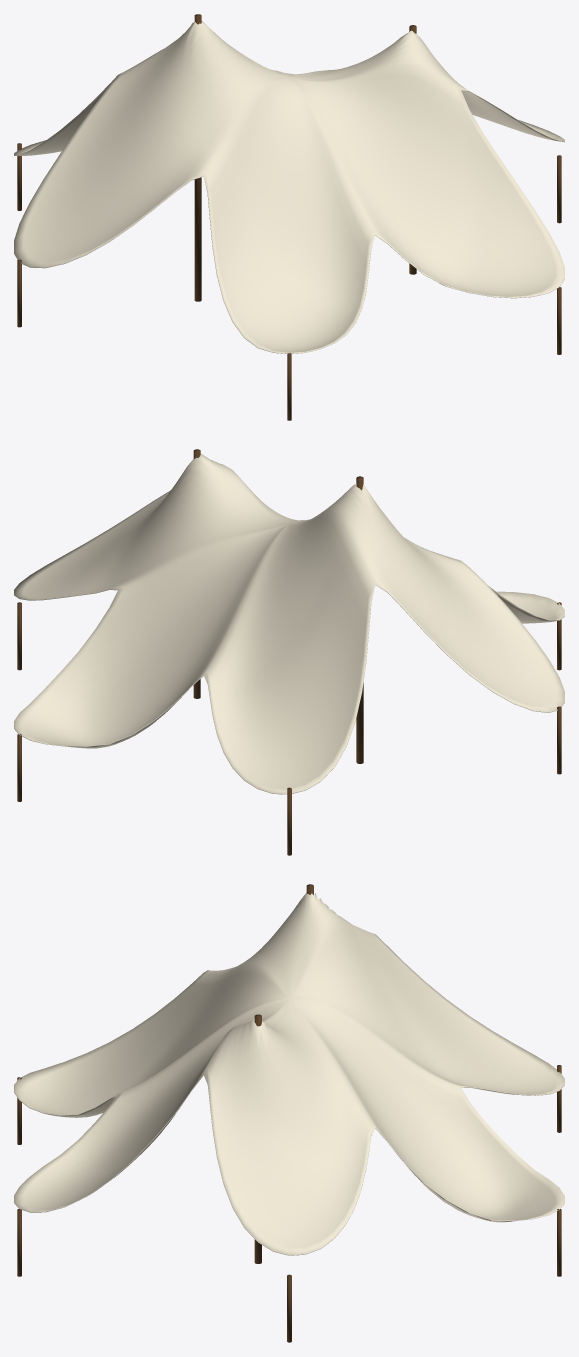
The model's file is tent.obj.
3 renders of one model, top to bottom at view 1: azimuth 30°, elevation 25°; view 2: azimuth 150°, elevation 25°; view 3: azimuth 270°, elevation 25°, orthographic.
Visible parts, largest first — view 1: TentFabric, MainPole_0; view 2: TentFabric, MainPole_0; view 3: TentFabric.
Boxes of the visible parts, x1,y1,x2,y2 form: TentFabric: [14, 21, 564, 353]; MainPole_0: [194, 14, 201, 301]; TentFabric: [14, 453, 564, 794]; MainPole_0: [356, 476, 363, 763]; TentFabric: [14, 892, 564, 1255].
Size of what is drawn, in the model's own units: 12.09 by 6.04 by 10.61.
